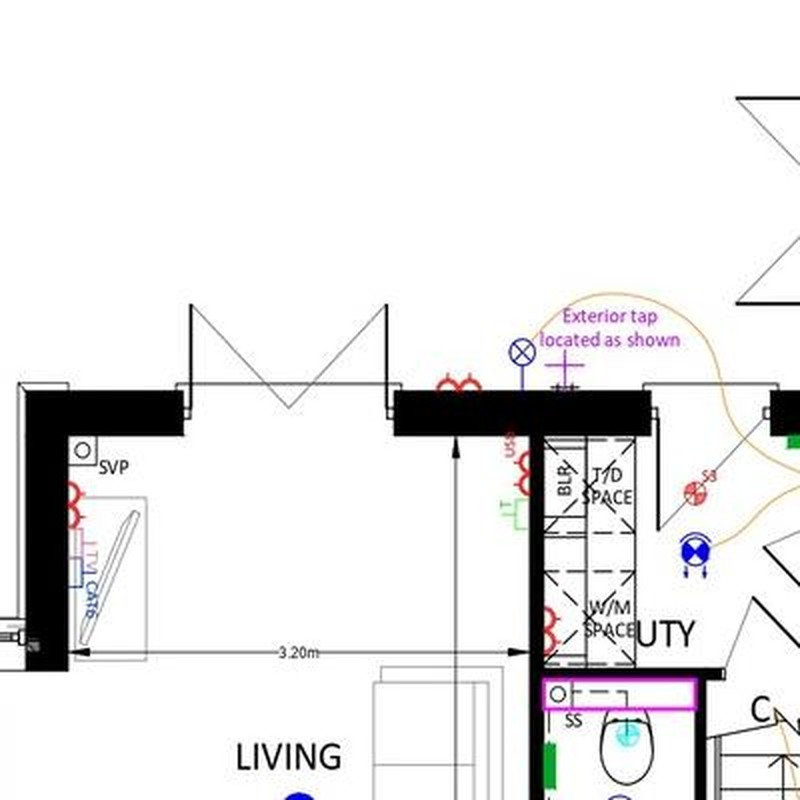Cat 6 Data Socket: (70, 558, 102, 620)
Ceiling Mounted Continuous Extract FanWith Boost Mode Activated By Light Switch: (616, 724, 639, 744)
Ceiling Mounted Continuous Extract FanWith Local Boost Switch: (684, 470, 716, 505)
Co-Ax TV Socket: (67, 530, 102, 570)
Double Socket: (542, 608, 562, 654), (67, 482, 85, 528), (437, 373, 481, 390)
External Wall Light: (508, 338, 535, 391)
Low Energy Downlighter: (679, 532, 712, 578)
Outside Tap: (541, 349, 588, 391)
Radiator: (544, 742, 557, 789), (787, 435, 800, 448)
Telephone Socket: (500, 496, 528, 532)
USB Double Socket: (504, 434, 529, 496)
